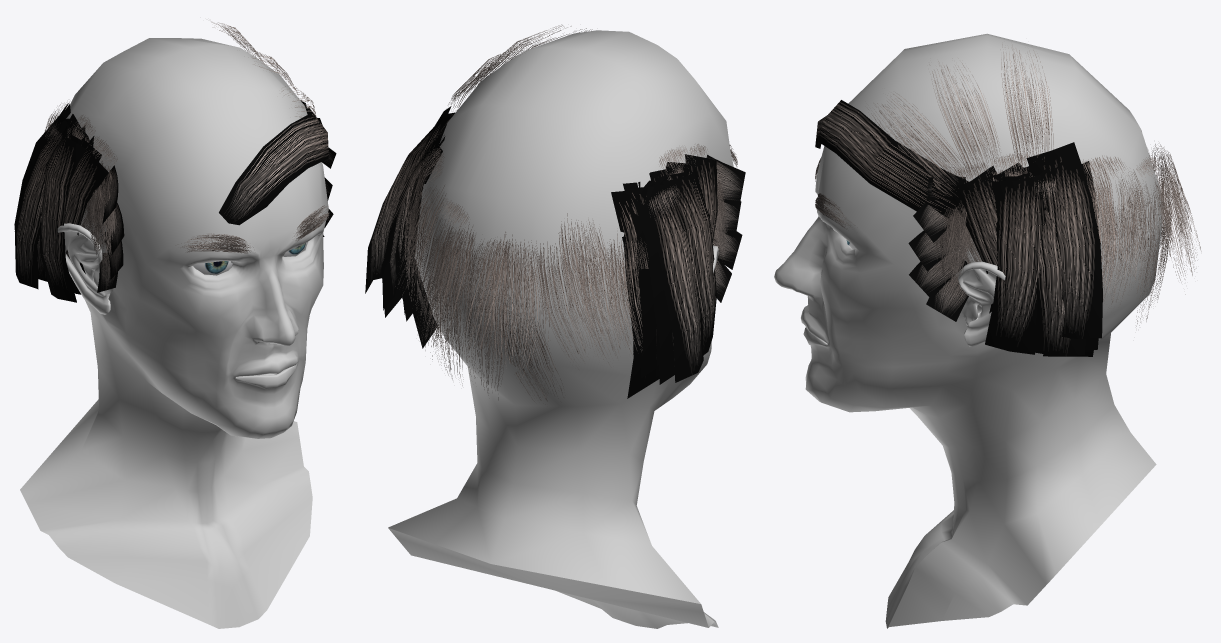
File: docter_face.fbx
3 views of the same model, side by side, from view 1: azimuth 30°, elevation 25°; view 2: azimuth 150°, elevation 25°; view 3: azimuth 270°, elevation 25° (orthographic). The views are drawn at different scales.
Parts seen in each view (by area): view 1: pCylinder21, pPlane60, s:aa:pPlane56, s:aa:pPlane57, s:aa:pPlane30, pPlane67, s:aa:pPlane58, s:aa:pPlane18, s:aa:pPlane21, s:aa:pPlane17, pPlane49, s:aa:pPlane20 (+1 smaller); view 2: pCylinder21, s:aa:pPlane57, s:aa:pPlane56, s:aa:pPlane38, s:aa:pPlane62, s:aa:pPlane37, pPlane64, s:aa:pPlane58, s:aa:pPlane8, s:aa:pPlane39, s:aa:pPlane13, pPlane53 (+25 smaller); view 3: pCylinder21, pPlane56, pPlane53, pPlane60, pPlane57, pPlane66, pPlane65, pPlane30, pPlane61, pPlane38, pPlane63, pPlane54 (+13 smaller).
Part boxes in pixels (x1,y1,x2,y2): pCylinder21: (20,38,328,628); pPlane60: (219,108,328,225); s:aa:pPlane56: (39,126,85,302); s:aa:pPlane57: (14,118,68,289); s:aa:pPlane30: (64,136,108,259); pPlane67: (175,233,253,253); s:aa:pPlane58: (14,109,68,229); s:aa:pPlane18: (96,183,116,253); s:aa:pPlane21: (101,165,118,223); s:aa:pPlane17: (87,185,107,249); pPlane49: (294,205,329,241); s:aa:pPlane20: (97,252,117,292); pCylinder21: (388,30,733,628); s:aa:pPlane57: (644,185,703,382); s:aa:pPlane56: (663,168,716,355); s:aa:pPlane38: (558,213,626,350); s:aa:pPlane62: (490,231,539,377); s:aa:pPlane37: (537,241,603,369); pPlane64: (452,234,509,371); s:aa:pPlane58: (629,185,674,384); s:aa:pPlane8: (579,234,633,364); s:aa:pPlane39: (502,234,551,367); s:aa:pPlane13: (623,182,656,378); pPlane53: (365,116,450,293); pCylinder21: (774,33,1163,628); pPlane56: (985,174,1045,354); pPlane53: (1028,152,1102,338); pPlane60: (815,100,968,220); pPlane57: (1034,192,1085,356); pPlane66: (1000,44,1053,171); pPlane65: (929,58,1000,178); pPlane30: (951,165,997,273); pPlane61: (867,92,967,196); pPlane38: (1116,169,1147,297); pPlane63: (1155,169,1196,294); pPlane54: (1087,168,1117,300).
Bounding box in the file's own units: 20.32 × 39.36 × 25.63.
